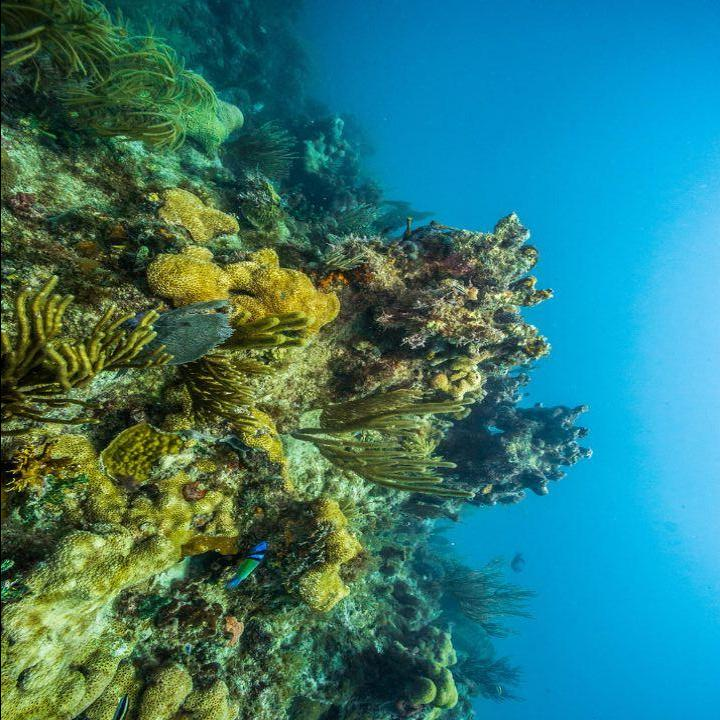Healthy Coral: (11, 206, 601, 719), (11, 12, 239, 178)
